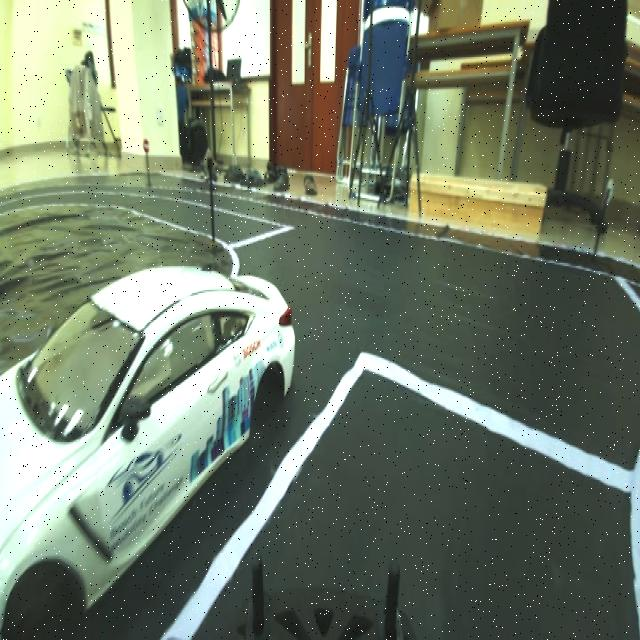car: (3, 243, 297, 603)
